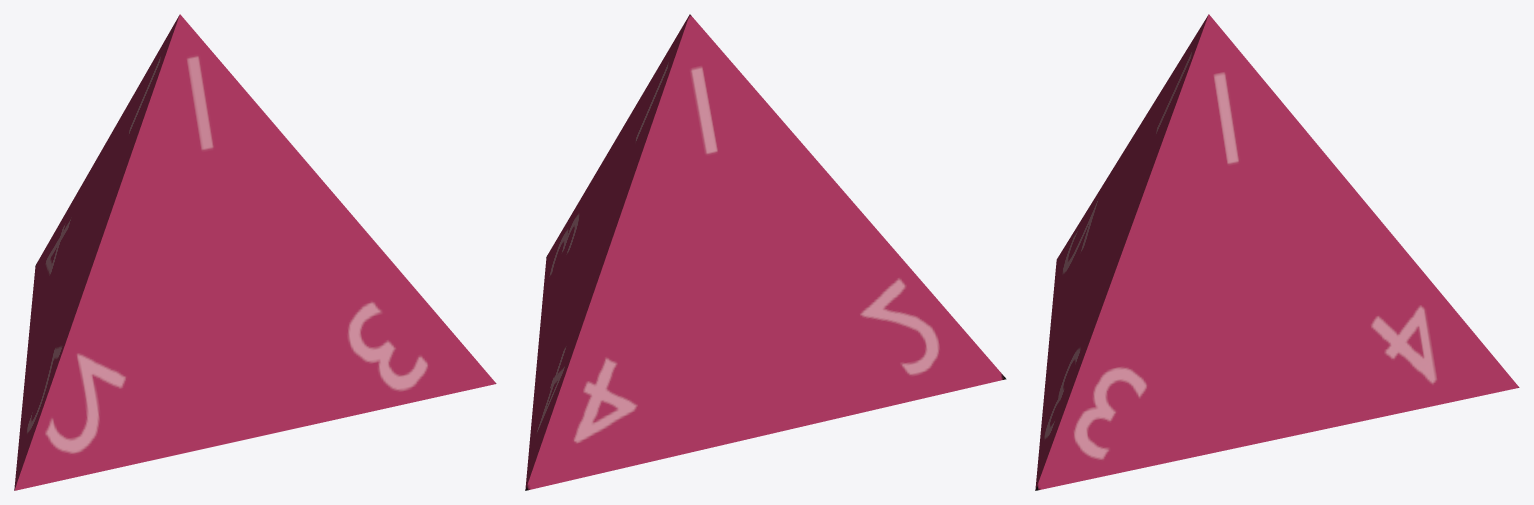
3 views of the same model, side by side, from view 1: azimuth 30°, elevation 25°; view 2: azimuth 150°, elevation 25°; view 3: azimuth 270°, elevation 25° (orthographic).
Visible parts, largest first — view 1: D4; view 2: D4; view 3: D4.
Part boxes in pixels (left/top/right/bottom): D4: left=14, top=14, right=496, bottom=490; D4: left=525, top=14, right=1006, bottom=490; D4: left=1035, top=14, right=1519, bottom=490.
Bounding box in the file's own units: 1.86 × 1.38 × 1.64.
1 material, 1 textured.
